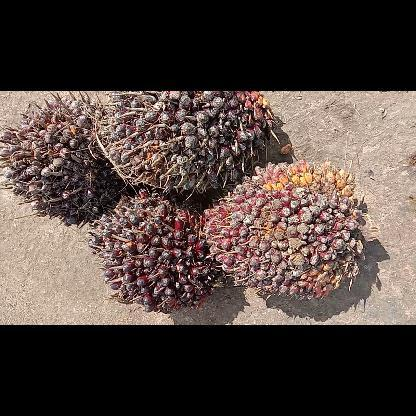Kurang masak: (202, 158, 382, 304), (98, 90, 282, 200), (0, 91, 128, 225), (87, 196, 227, 312)
